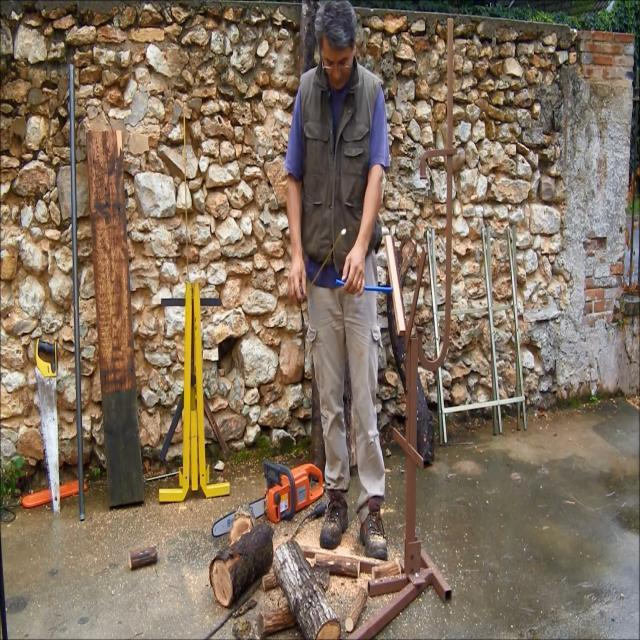Chainsaw: (202, 436, 338, 578)
